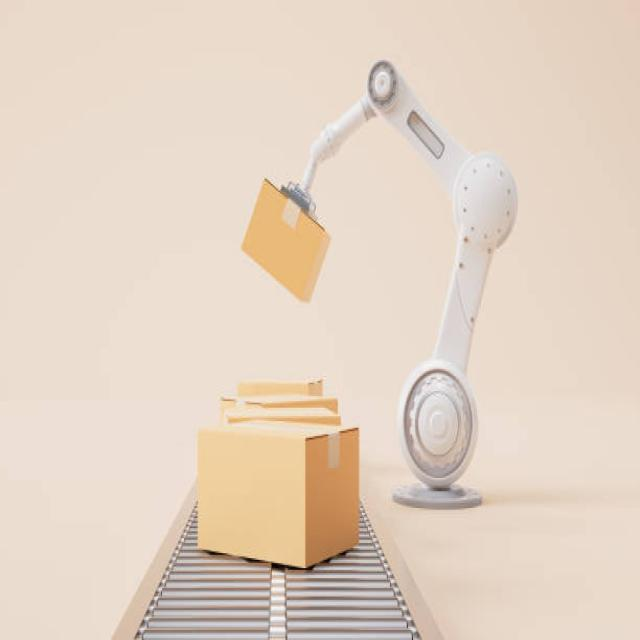Robotic-arm: (278, 53, 522, 530)
